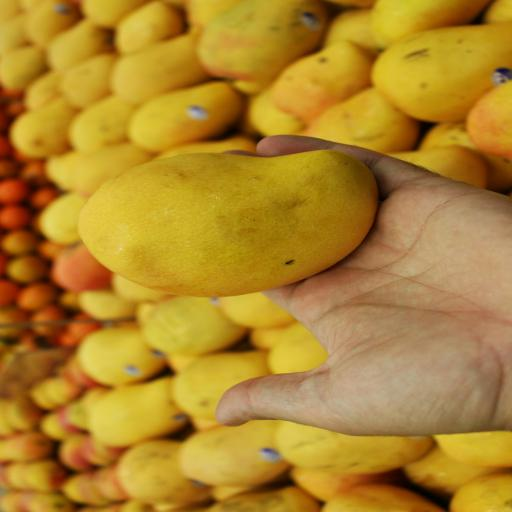Mango-Detection: (28, 87, 453, 360)
